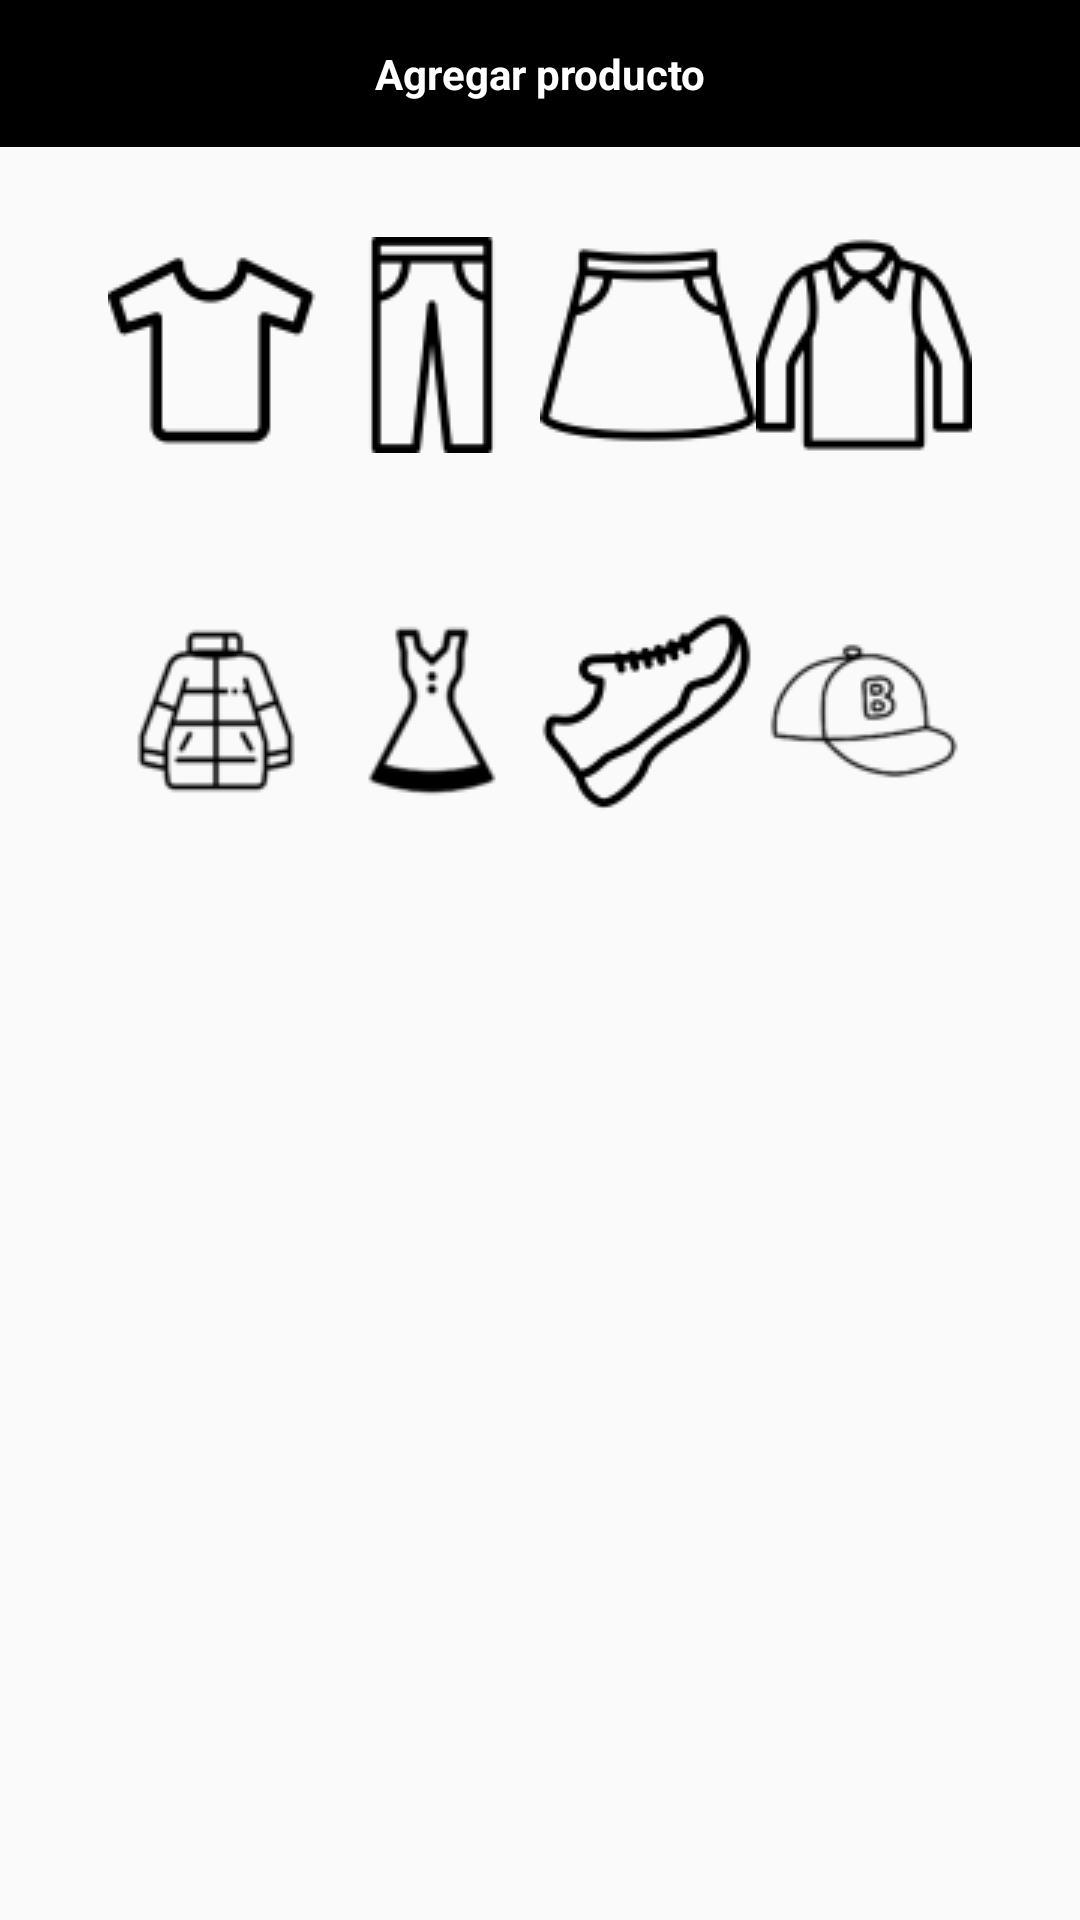

Screen size 1080px×1920px. Icon name, then its center in pixels as (x,y):
abrigo: (216,711)
camisa: (864,345)
camiseta: (212,351)
falda: (648,345)
gorra: (864,711)
pantalones: (432,345)
vestido: (432,711)
zapatos: (646,711)
